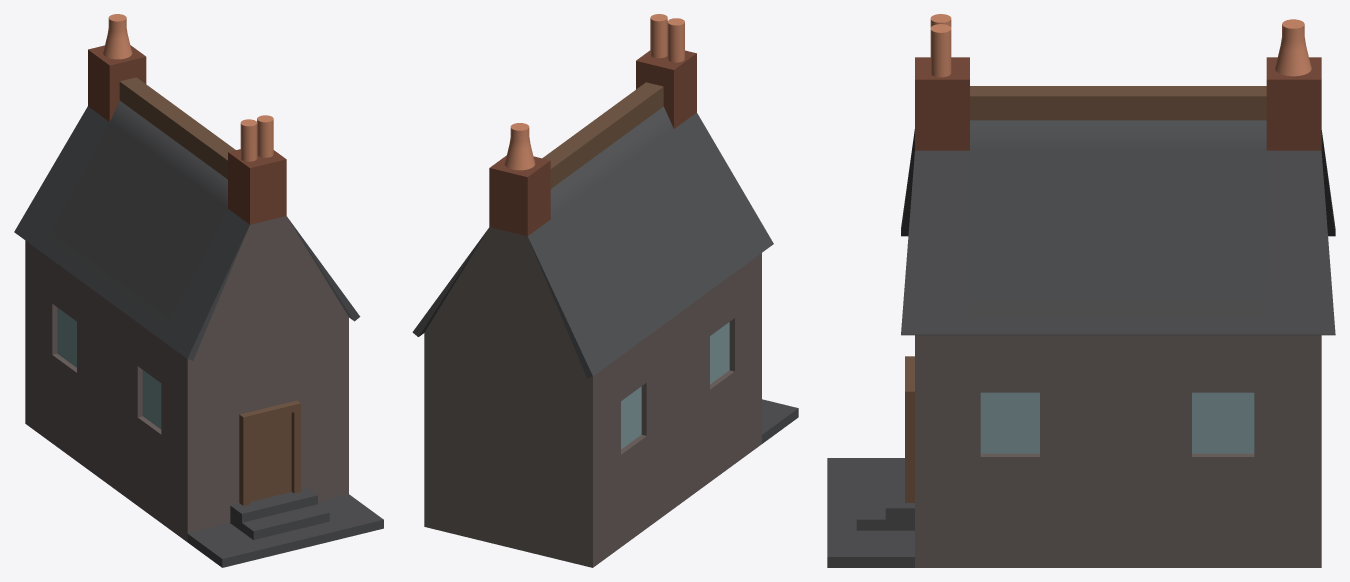
File: house.fbx
3 renders of one model, left to right at view 1: azimuth 30°, elevation 25°; view 2: azimuth 150°, elevation 25°; view 3: azimuth 270°, elevation 25°, orthographic. The views are drawn at different scales.
Parts seen in each view (by area): view 1: house1; view 2: house1; view 3: house1.
Boxes of the visible parts, x1,y1,x2,y2 form: house1: (14,14,383,567); house1: (412,14,798,567); house1: (827,14,1335,567).
Bounding box in the file's own units: 10.21 × 22.24 × 20.71.
